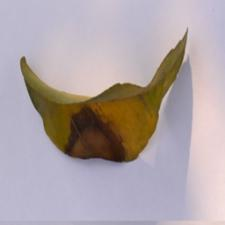Black: (56, 80, 142, 192)
